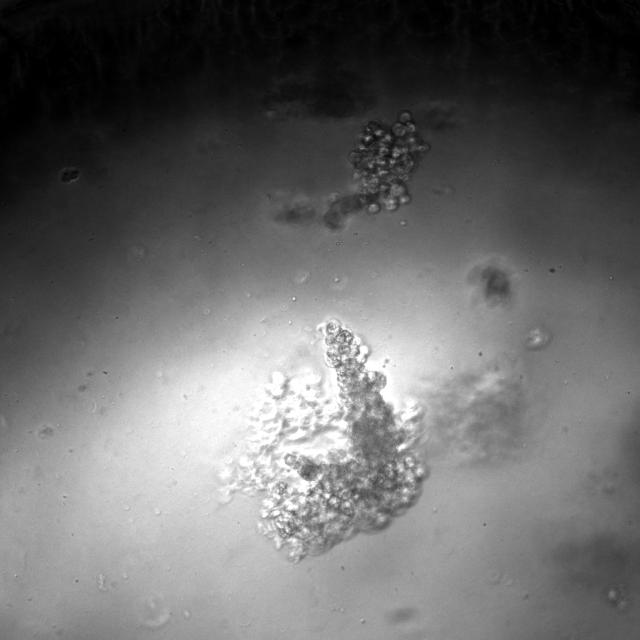organoid: (224, 319, 427, 560), (319, 111, 428, 229), (430, 370, 526, 462), (278, 204, 316, 223)
